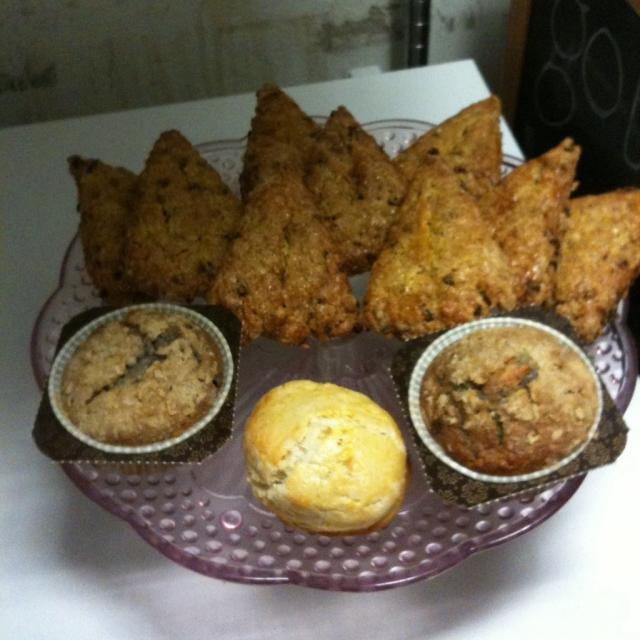Muffin: (239, 379, 411, 539)
